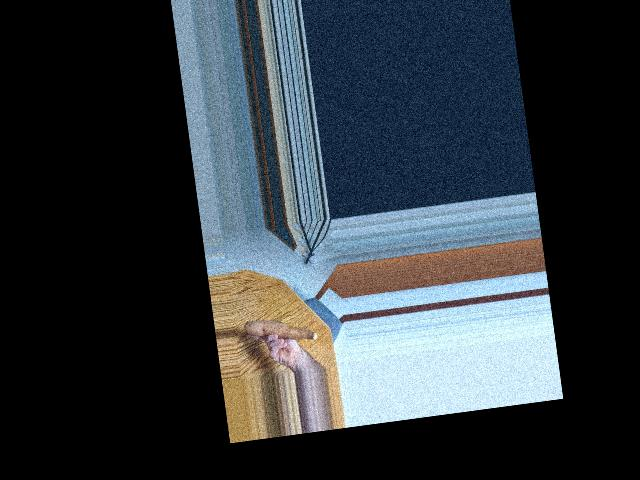sweet_potato: (245, 307, 319, 348)
